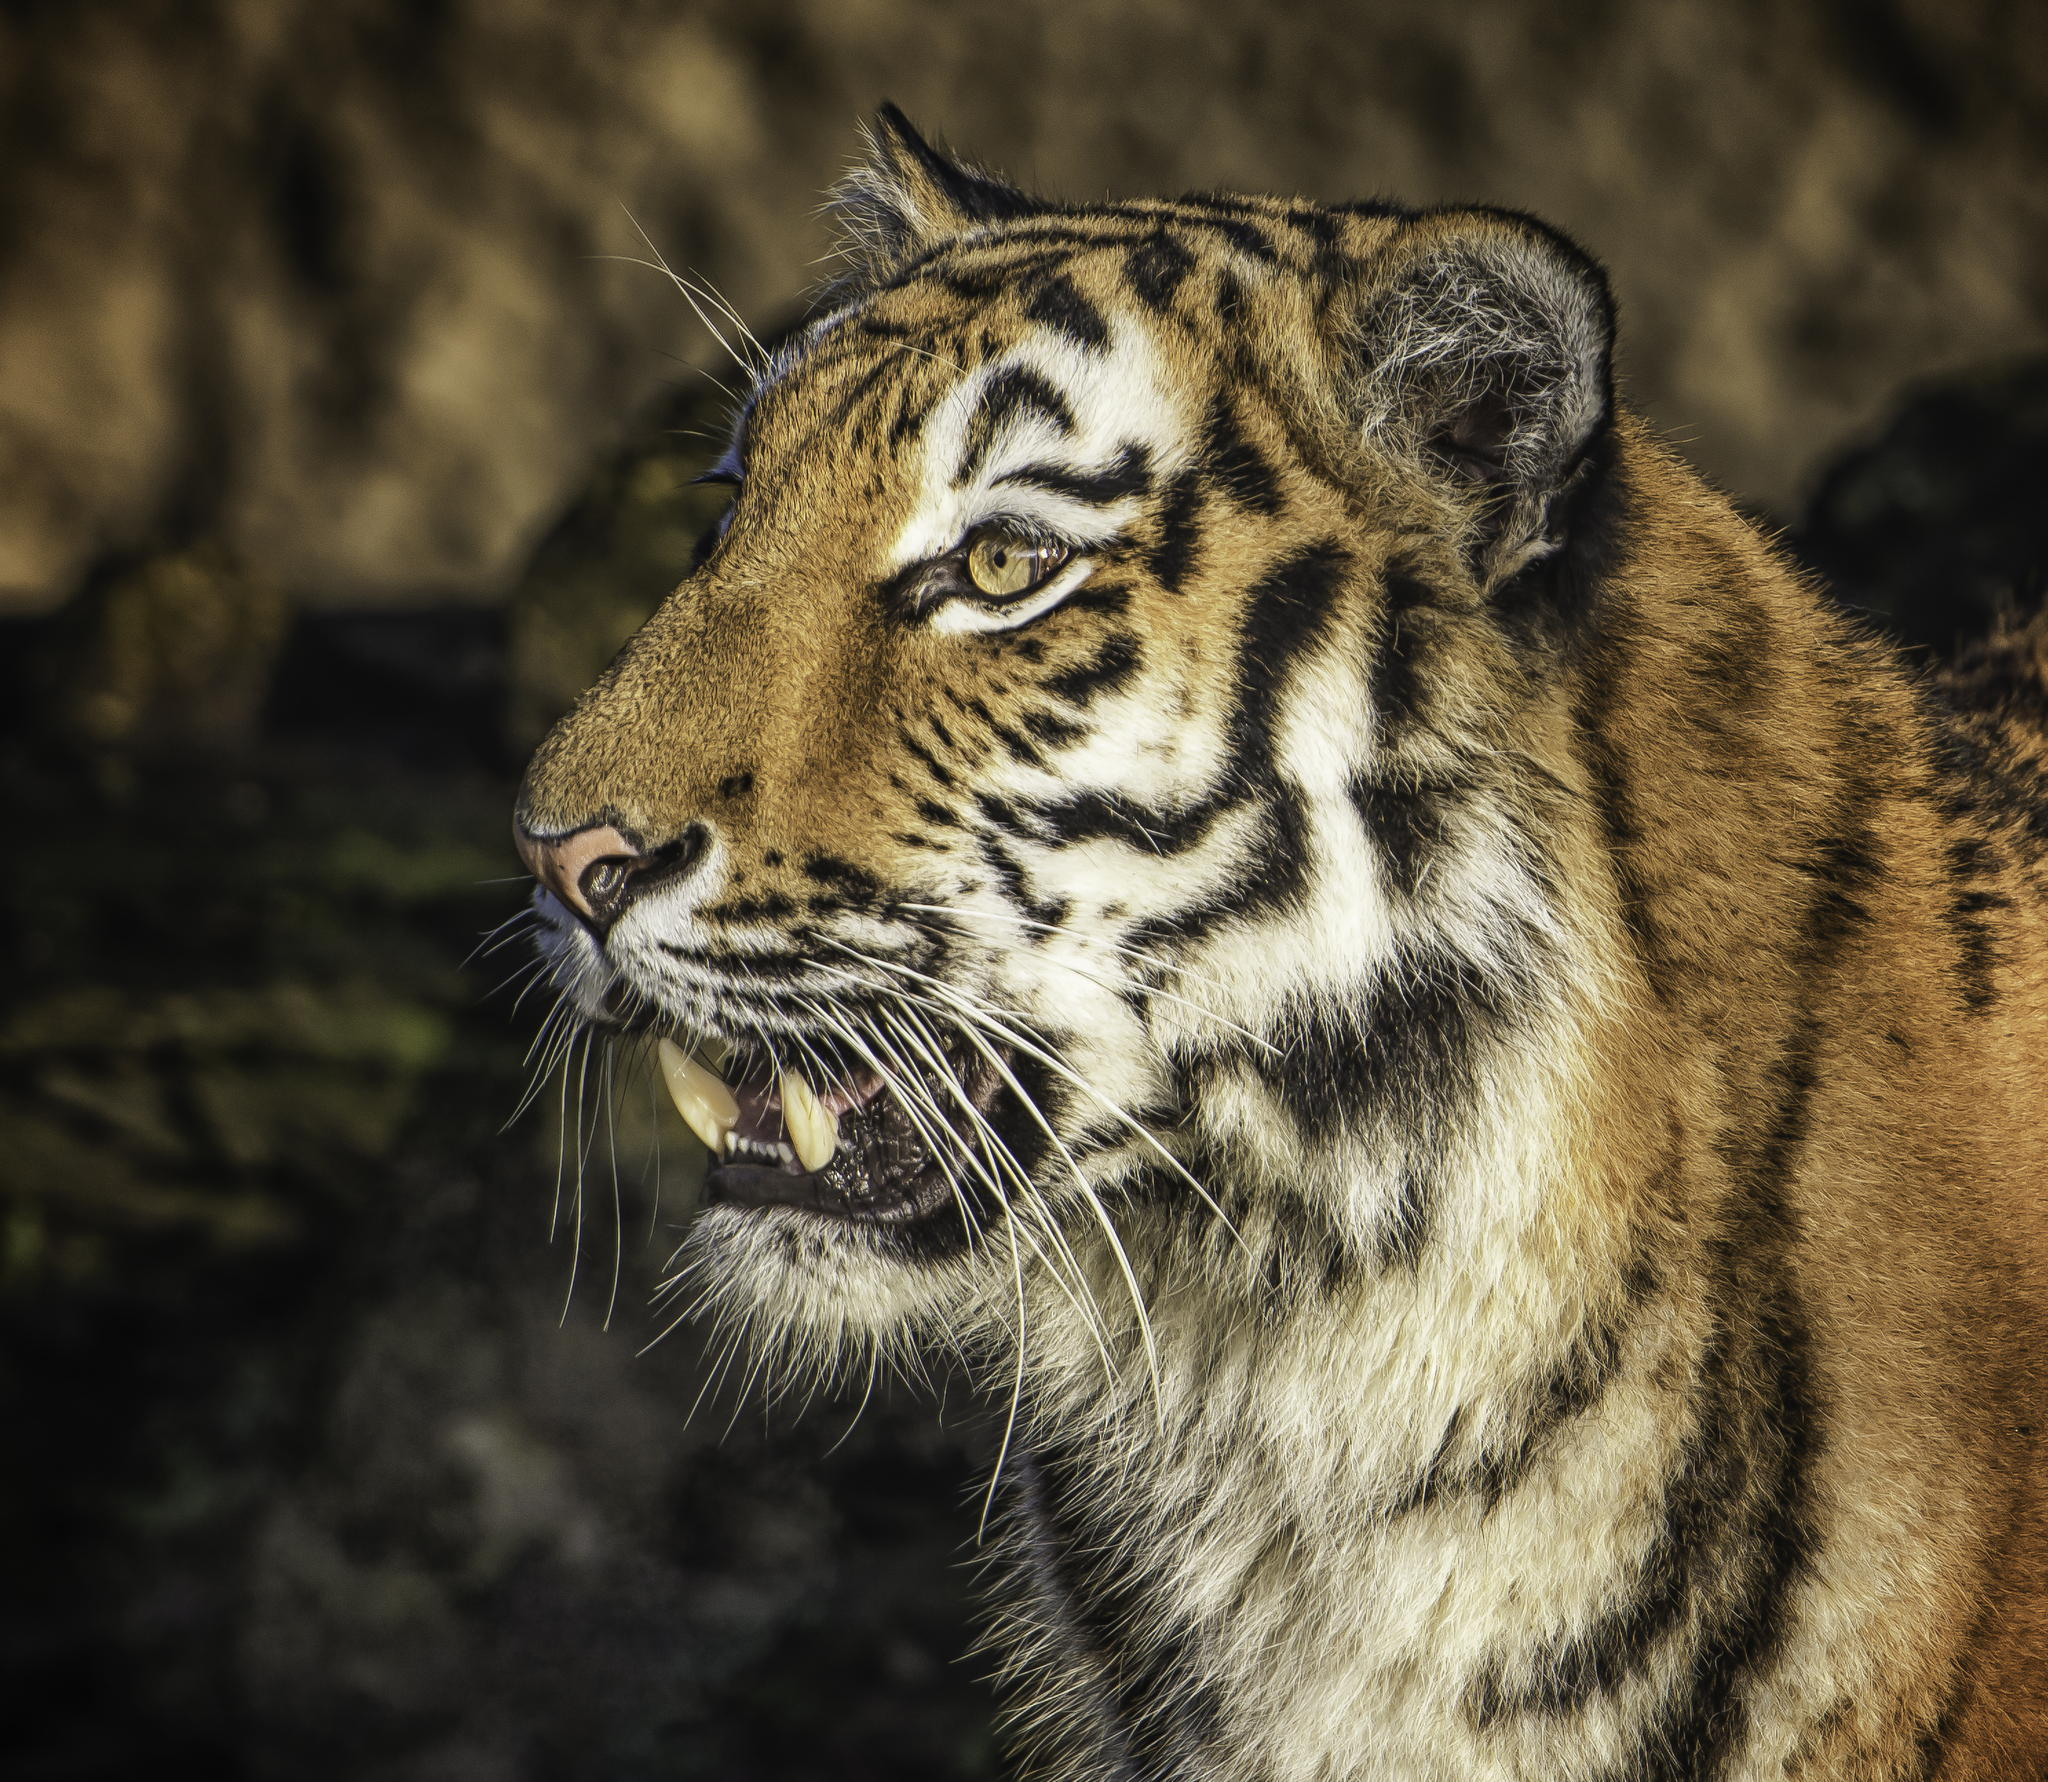tiger: (507, 110, 1999, 1712)
